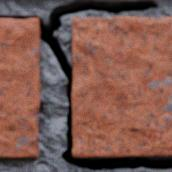brick: (71, 17, 171, 157), (0, 19, 40, 158)
crack: (0, 0, 171, 171)
